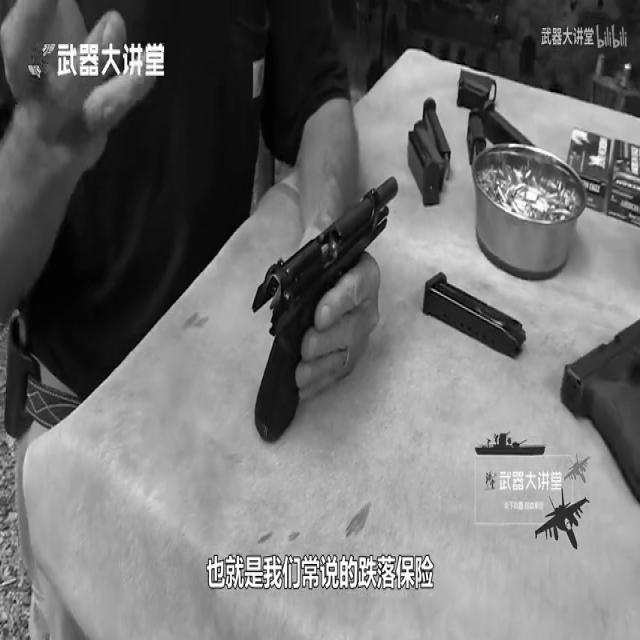Hand-Gun: (238, 162, 412, 456)
